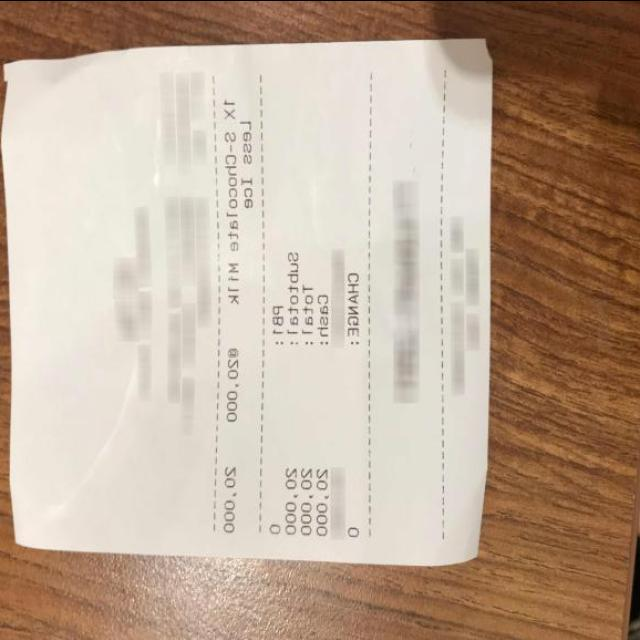kertas: (1, 40, 491, 564)
